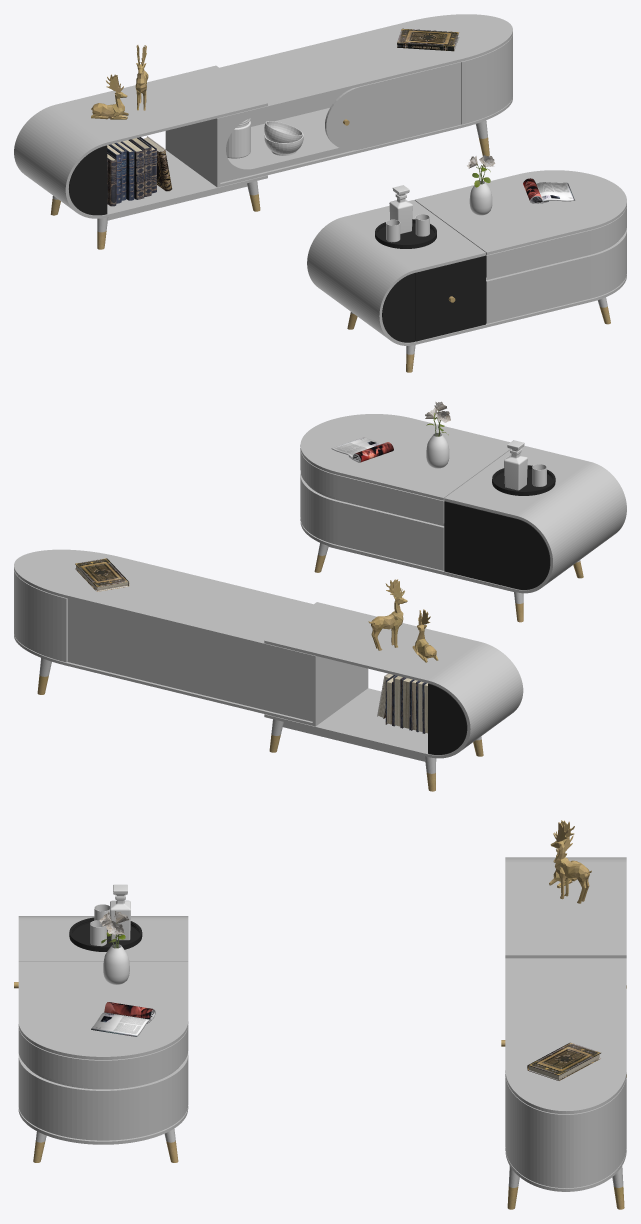
The model's file is Living_room_tables.fbx.
3 renders of one model, top to bottom at view 1: azimuth 30°, elevation 25°; view 2: azimuth 150°, elevation 25°; view 3: azimuth 270°, elevation 25°, orthographic. The views are drawn at different scales.
Parts seen in each view (by area): view 1: Coffee_table, TV_table_2, TV_table_1, TV_tabel_2_door, Book_pack_8, Book_4, Magazine, Tray, Golden_Deer_2.001, Decanter, Jar, Bowl_1 (+3 smaller); view 2: Coffee_table, TV_table_2, TV_table_1, Book_pack_8, Book_4, Golden_Deer_1.001, Decanter, Magazine, Tray, Vase, Golden_Deer_2.001; view 3: Coffee_table, TV_table_2, TV_table_1, Book_4, Magazine, Golden_Deer_1.001, Tray, Vase, Decanter.
Part boxes in pixels (x1,y1,x2,y2): Coffee_table: (307, 170, 626, 372); TV_table_2: (165, 14, 512, 187); TV_table_1: (14, 65, 267, 249); TV_tabel_2_door: (325, 62, 460, 150); Book_pack_8: (107, 137, 156, 206); Book_4: (397, 28, 458, 51); Magazine: (523, 178, 574, 203); Tray: (375, 219, 436, 248); Golden_Deer_2.001: (91, 74, 128, 119); Decanter: (389, 185, 412, 233); Jar: (226, 118, 250, 158); Bowl_1: (264, 121, 302, 142); Coffee_table: (300, 414, 626, 622); TV_table_2: (14, 549, 368, 726); TV_table_1: (264, 602, 523, 791); Book_pack_8: (385, 675, 427, 733); Book_4: (75, 558, 129, 591); Golden_Deer_1.001: (368, 579, 407, 650); Decanter: (504, 440, 527, 490); Magazine: (331, 437, 393, 462); Tray: (492, 465, 555, 495); Vase: (426, 433, 449, 468); Golden_Deer_2.001: (412, 609, 438, 662); Coffee_table: (14, 916, 188, 1162); TV_table_2: (505, 958, 626, 1209); TV_table_1: (505, 857, 626, 1077); Book_4: (527, 1042, 600, 1080); Magazine: (91, 1002, 155, 1036); Golden_Deer_1.001: (550, 820, 591, 903); Tray: (69, 917, 142, 951); Vase: (103, 944, 129, 984); Decanter: (110, 884, 130, 940).
Size of the model in its own units: 262 by 91.62 by 253.
